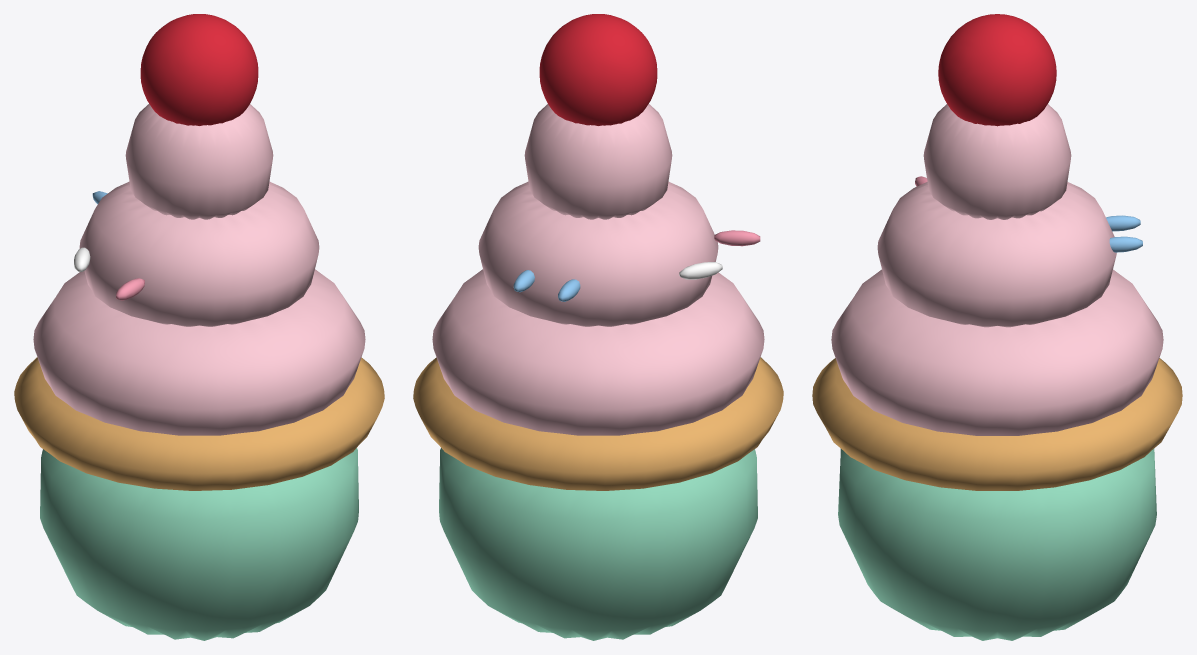
The model's file is comida_cupcake.glb.
3 views of the same model, side by side, from view 1: azimuth 30°, elevation 25°; view 2: azimuth 150°, elevation 25°; view 3: azimuth 270°, elevation 25° (orthographic).
Parts seen in each view (by area): view 1: capacillo.001, remolino 0.001, remolino 1.001, ponqué.001, remolino 2.001, cereza.001; view 2: capacillo.001, remolino 0.001, remolino 1.001, ponqué.001, remolino 2.001, cereza.001, chispa 0.008, chispa 4.008; view 3: capacillo.001, remolino 0.001, remolino 1.001, ponqué.001, remolino 2.001, cereza.001.
Part boxes in pixels (left/top/right/bottom): capacillo.001: left=40, top=448, right=358, bottom=640; remolino 0.001: left=33, top=269, right=365, bottom=435; remolino 1.001: left=79, top=181, right=319, bottom=326; ponqué.001: left=14, top=357, right=384, bottom=490; remolino 2.001: left=125, top=104, right=273, bottom=219; cereza.001: left=140, top=14, right=258, bottom=125; capacillo.001: left=439, top=448, right=757, bottom=640; remolino 0.001: left=432, top=269, right=764, bottom=435; remolino 1.001: left=478, top=181, right=718, bottom=326; ponqué.001: left=413, top=357, right=783, bottom=490; remolino 2.001: left=524, top=104, right=672, bottom=219; cereza.001: left=539, top=14, right=657, bottom=125; chispa 0.008: left=714, top=230, right=760, bottom=246; chispa 4.008: left=679, top=262, right=722, bottom=279; capacillo.001: left=838, top=448, right=1156, bottom=640; remolino 0.001: left=831, top=269, right=1163, bottom=435; remolino 1.001: left=877, top=182, right=1116, bottom=327; ponqué.001: left=812, top=358, right=1182, bottom=490; remolino 2.001: left=923, top=104, right=1071, bottom=219; cereza.001: left=938, top=14, right=1056, bottom=126.
Size of the model in its own units: 0.1823 by 0.3192 by 0.1823.
